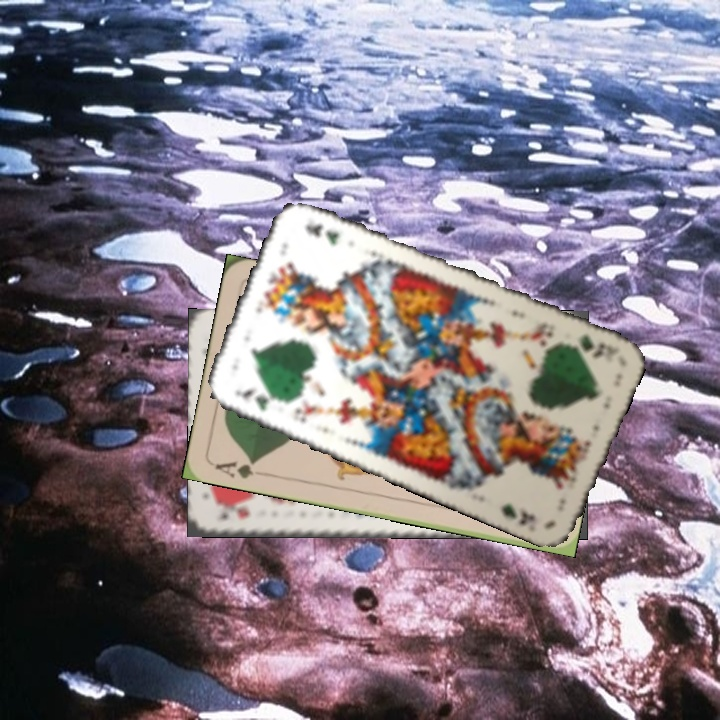GA: (211, 455, 269, 481)
GK: (563, 330, 622, 360), (230, 384, 286, 413)
HK: (217, 503, 253, 523)
